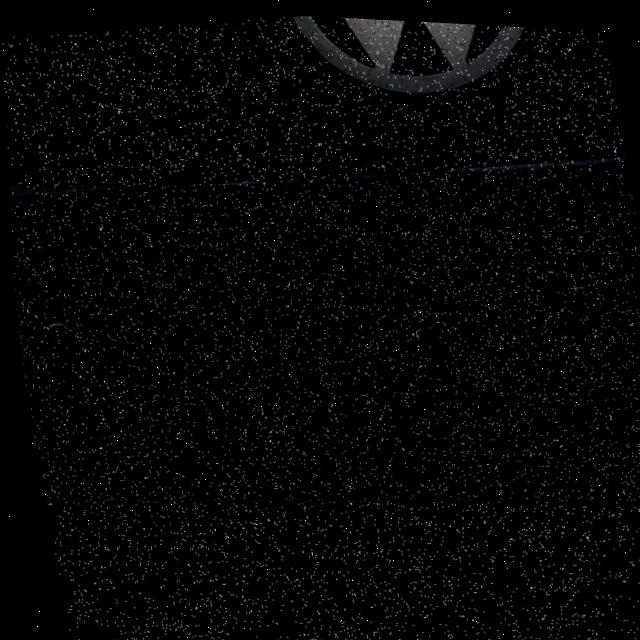LicensePlate: (5, 120, 640, 558)
